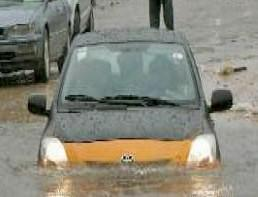water: (0, 58, 257, 196)
